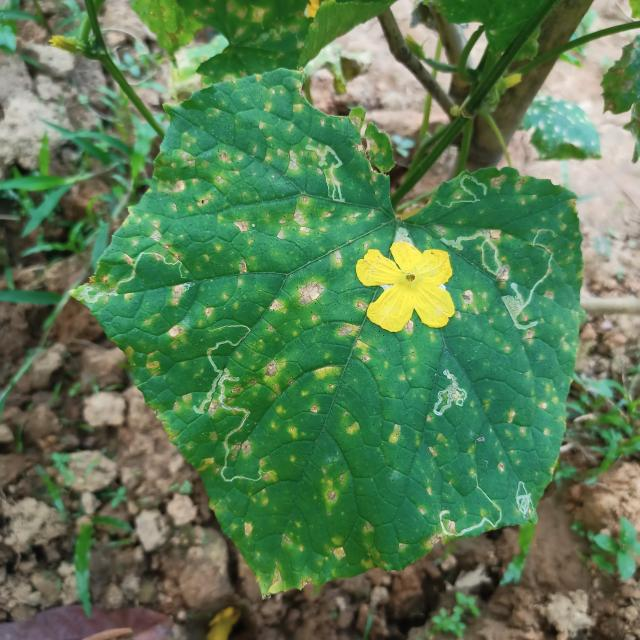disease_cucumber: (103, 88, 552, 581)
